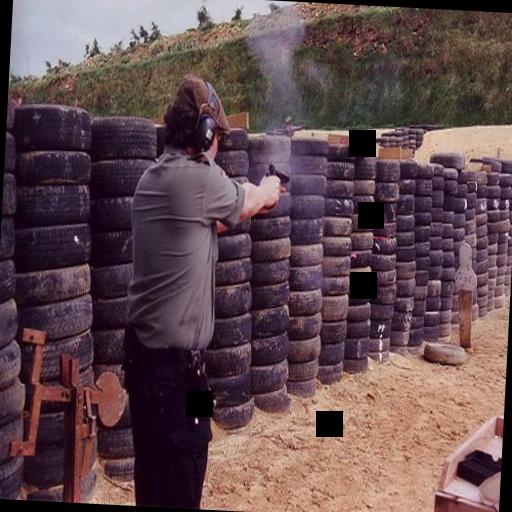Handgun: (254, 154, 290, 210)
